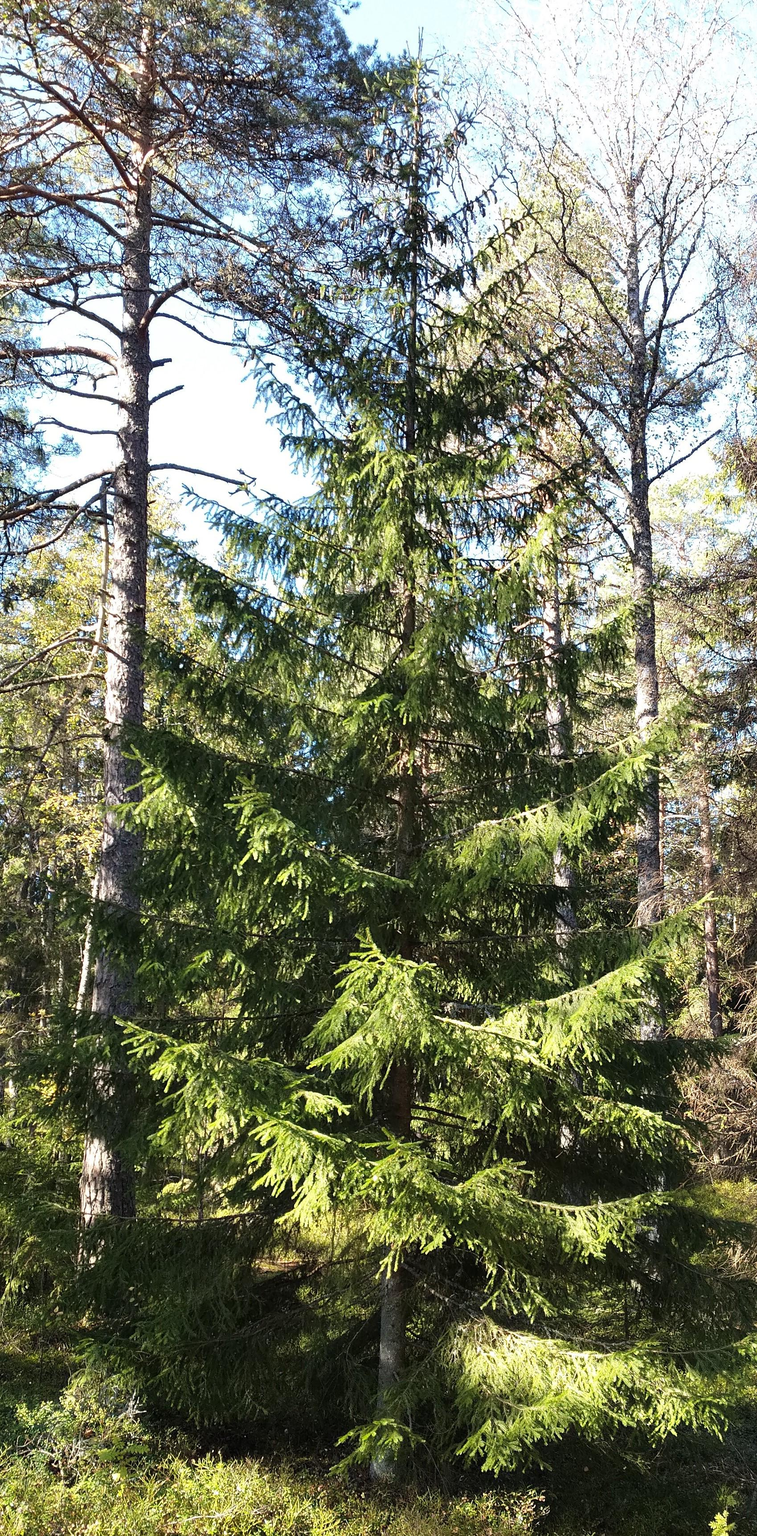Spruce: (148, 162, 645, 1520)
